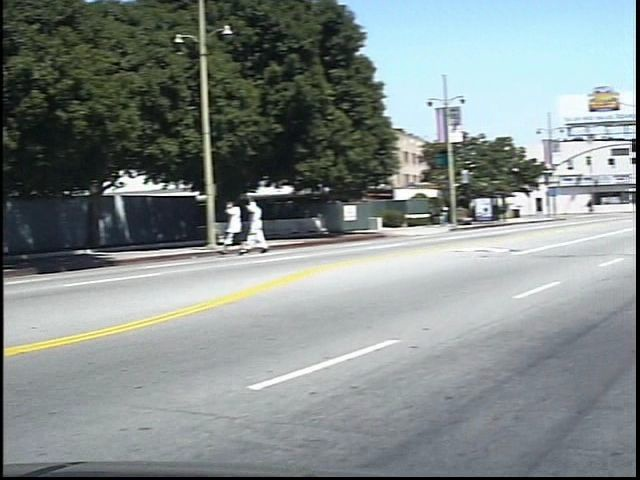person: (258, 196, 284, 257), (238, 194, 263, 257), (596, 193, 612, 221), (451, 203, 466, 229)
